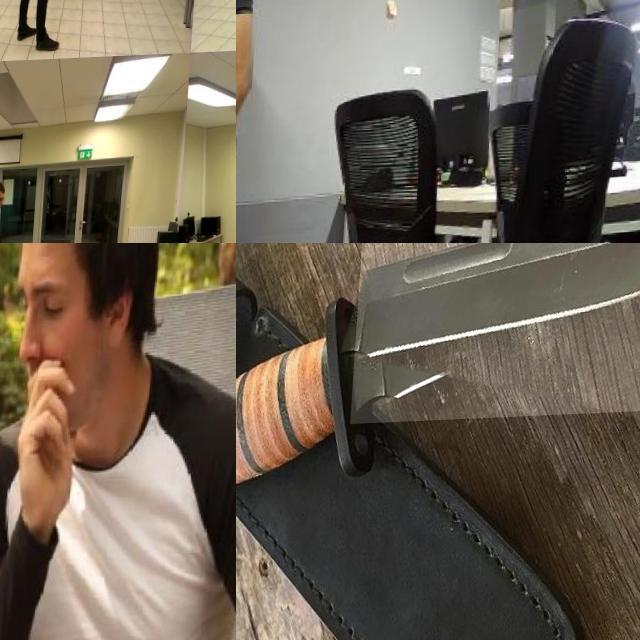-: (354, 243, 640, 426), (0, 489, 44, 640), (236, 164, 255, 207)
gun-knife-thesis - v11 Yolov5 augmented: (75, 0, 95, 10)
